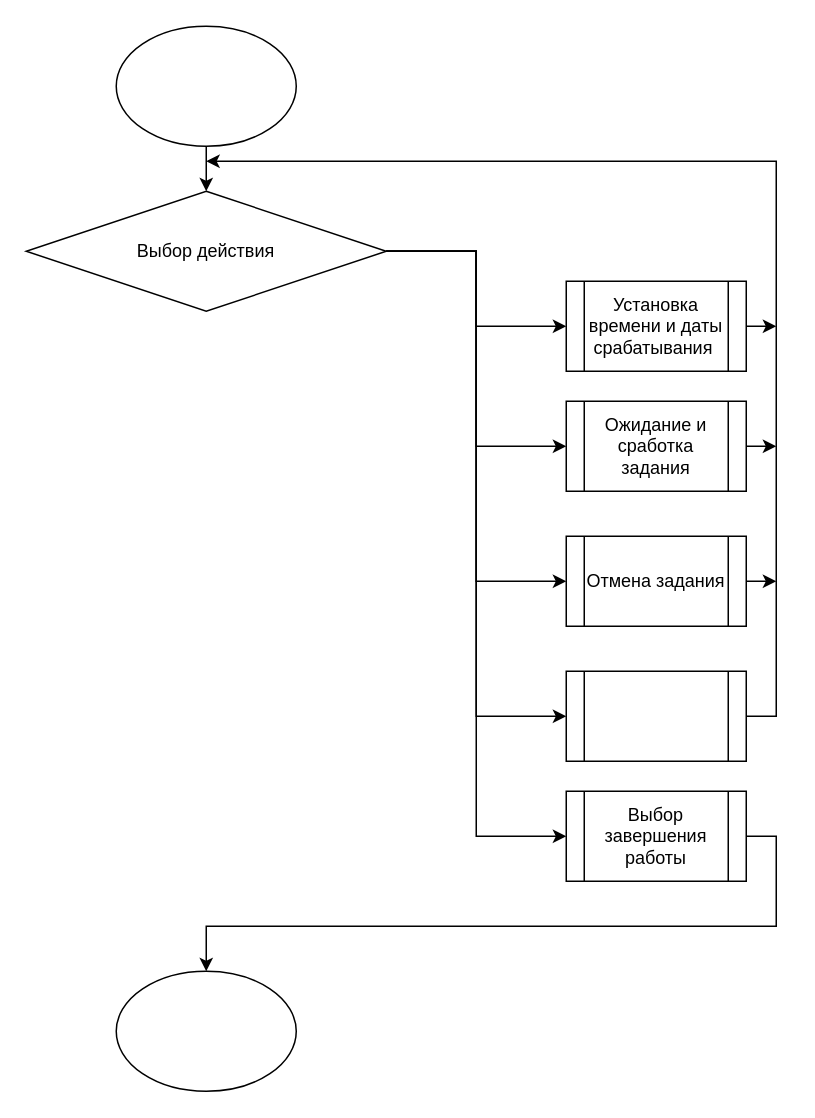
Image size: 815x1118. Some labels were removed from this diagram. Here are the shapes that lost their labels. From the top down, the centre of each, then its label:
At pixel 205 85: "Начало".
At pixel 655 715: "Обработка отложенных заданий".
At pixel 205 1030: "Конец".
